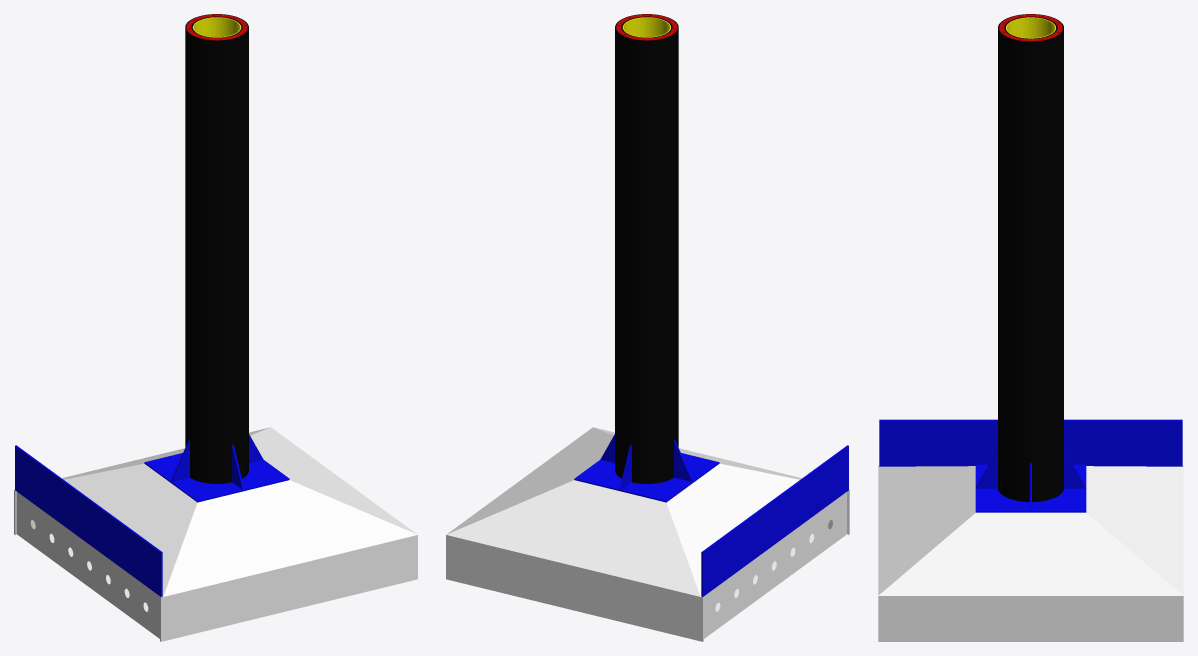
3 views of the same model, side by side, from view 1: azimuth 30°, elevation 25°; view 2: azimuth 150°, elevation 25°; view 3: azimuth 270°, elevation 25° (orthographic). The views are drawn at different scales.
Parts seen in each view (by area): view 1: Brep (×6); view 2: Brep (×6); view 3: Brep (×9).
Boxes of the visible parts, x1,y1,x2,y2 form: Brep (×6): (14, 14, 417, 641); Brep (×6): (446, 14, 849, 641); Brep (×9): (878, 14, 1183, 641).
Bounding box in the file's own units: 60.5 × 60 × 119.
